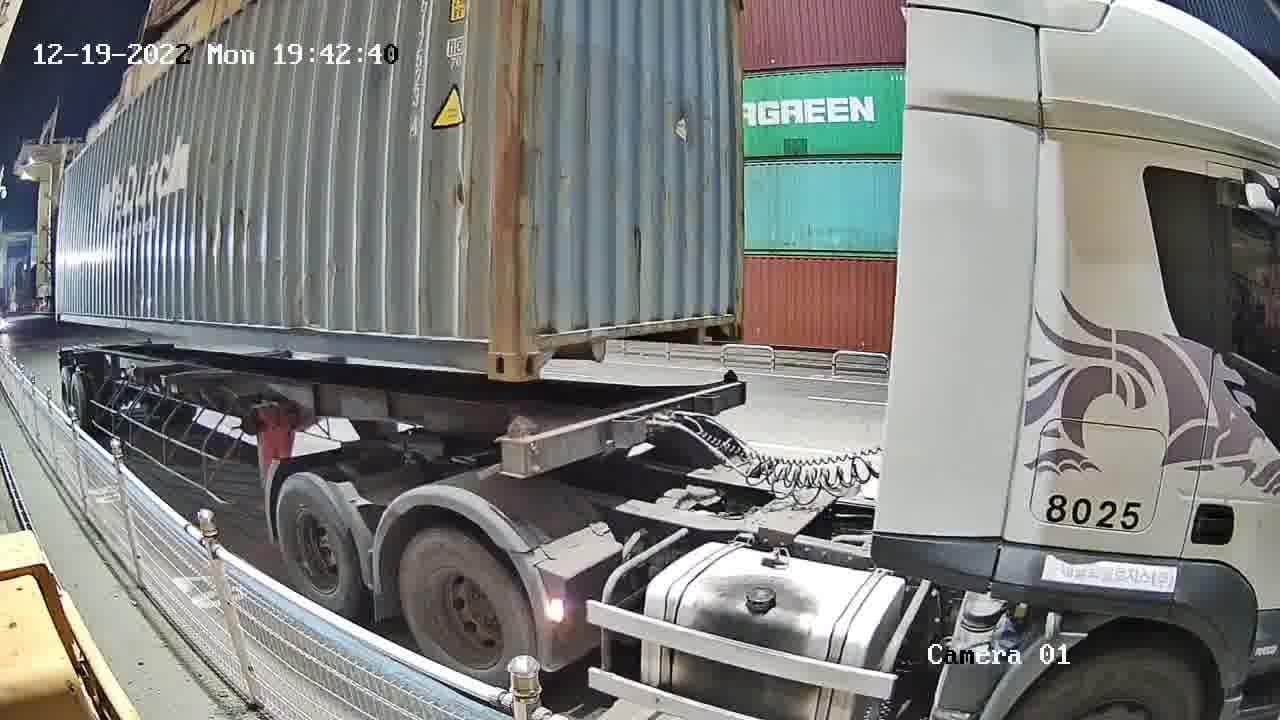Chassis: (497, 380, 745, 477)
Cone: (499, 414, 536, 475), (719, 368, 739, 388)
Hole_L: (516, 320, 566, 380)
Hole_R: (459, 316, 516, 380), (714, 301, 745, 341)
Tire: (401, 529, 532, 684), (276, 477, 358, 614)
